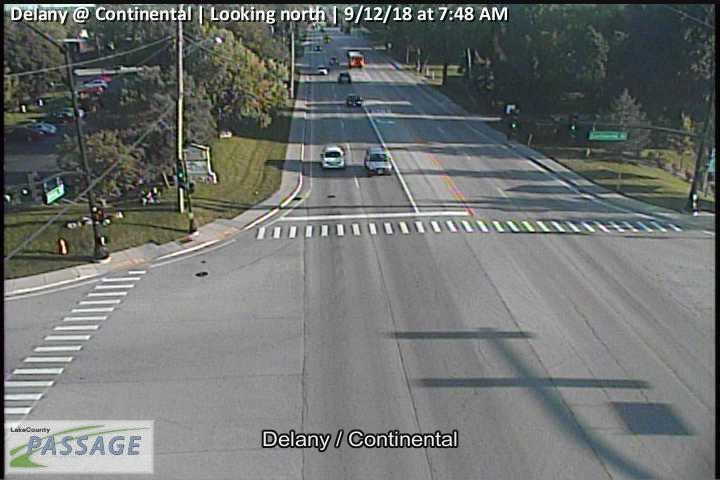SUV: (364, 146, 393, 176), (320, 146, 344, 169), (338, 72, 351, 82)
Sedan: (346, 93, 362, 108)
Truck: (347, 49, 364, 68)
